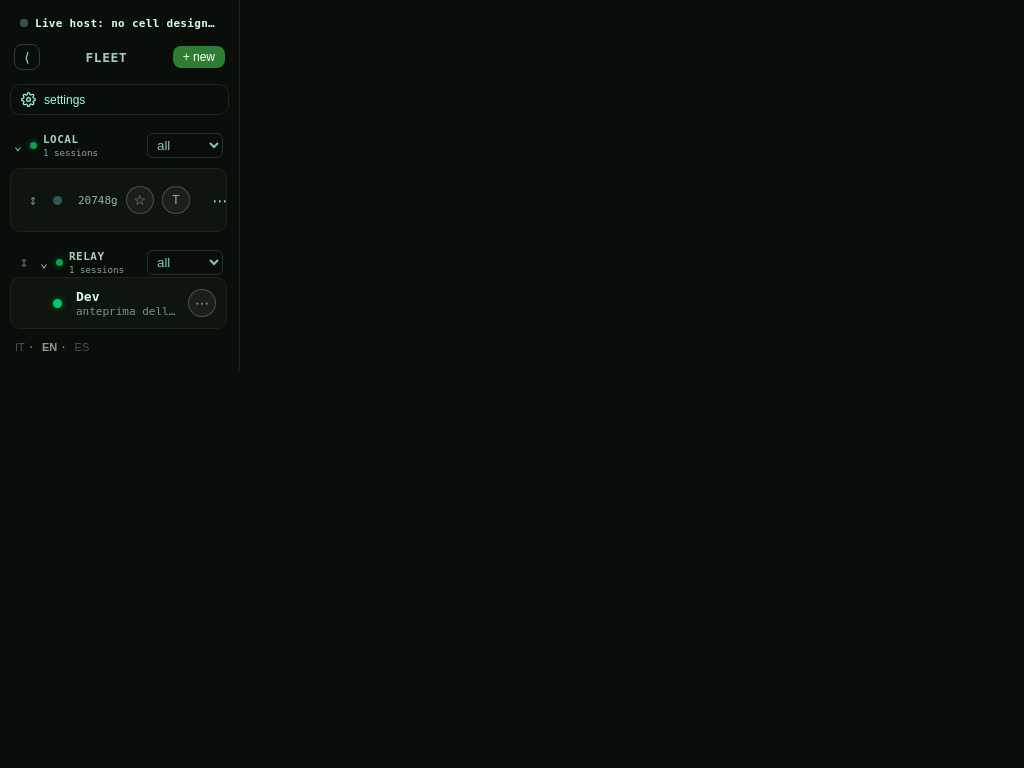
Sidebar session identity › il popup di una cella REMOTA non prende l'anteprima della sessione locale omonima
The width and height of the screenshot is (1024, 768).
Click the button with class "nc-side-peek".
click(58, 303)  # box [47, 294, 68, 312]
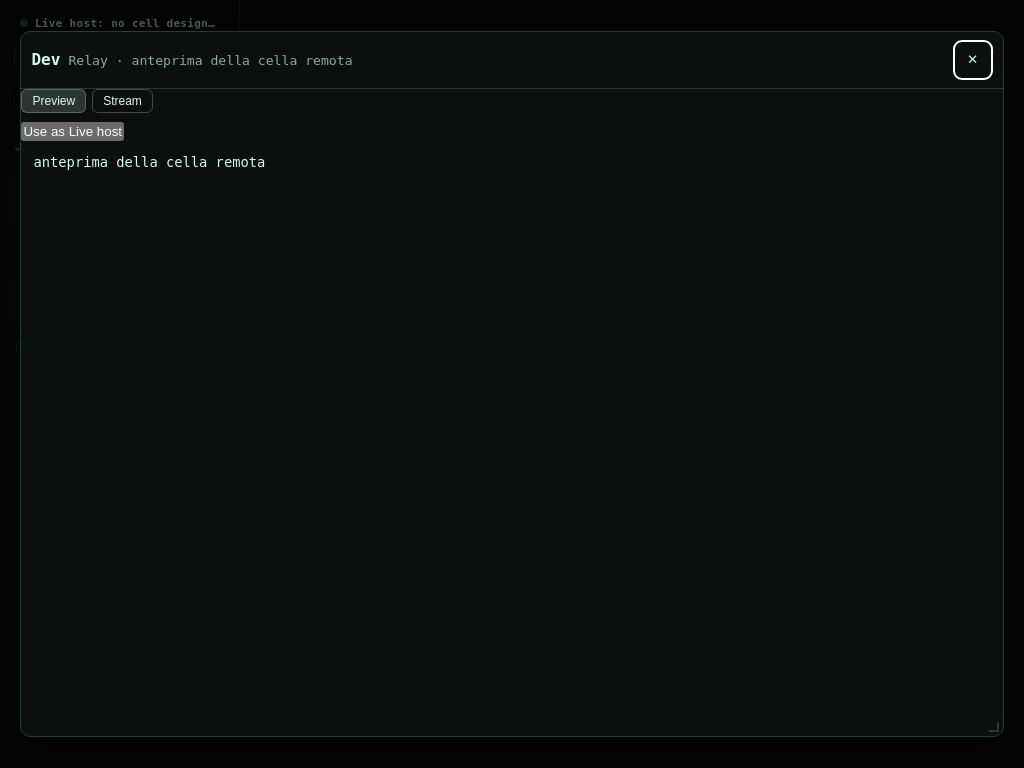
expect the element with class "nc-peek-testo" does not show "ANTEPRIMA DELLA CELLA LOCALE": met
expect the dialog "Dev" is shown: met
expect the text with class "nc-peek-testo" reads "anteprima della cella remota": met, box [34, 154, 265, 170]
